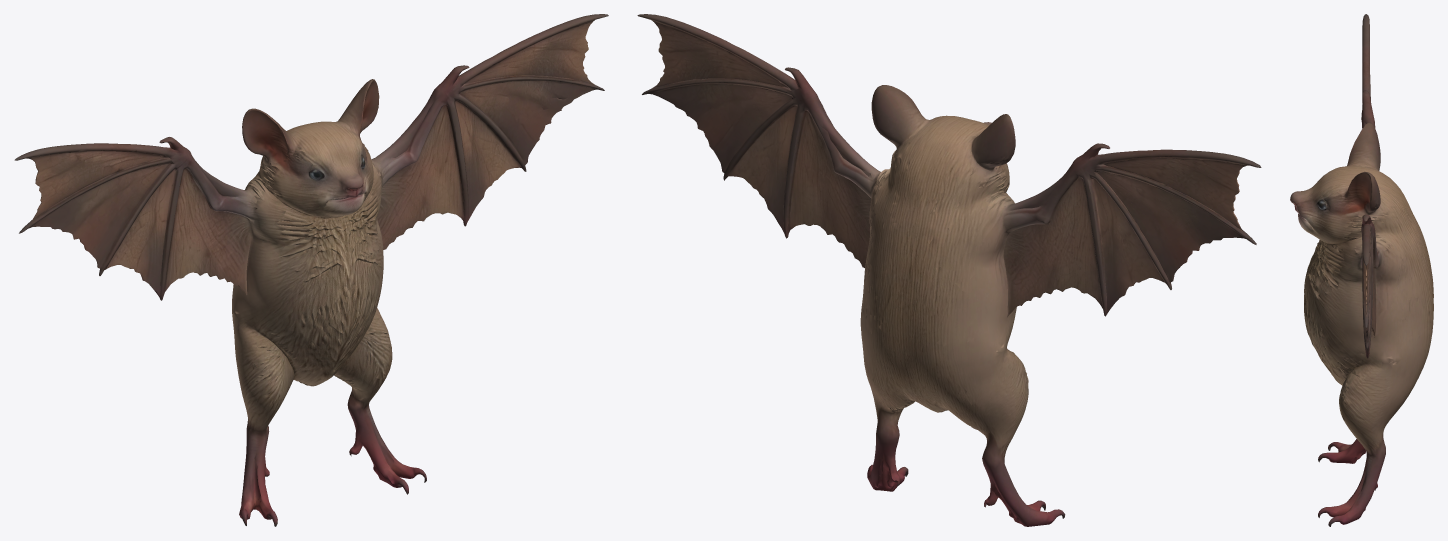
File: cave-bat-v306.glb
3 views of the same model, side by side, from view 1: azimuth 30°, elevation 25°; view 2: azimuth 150°, elevation 25°; view 3: azimuth 270°, elevation 25° (orthographic). The views are drawn at different scales.
Parts seen in each view (by area): view 1: Mesh; view 2: Mesh; view 3: Mesh.
Boxes of the visible parts, x1,y1,x2,y2 form: Mesh: [14, 14, 608, 526]; Mesh: [637, 14, 1261, 526]; Mesh: [1290, 14, 1433, 526].
Size of the model in its own units: 1.89 by 1.24 by 0.4577.
Materials: 1 (1 with a texture image).
